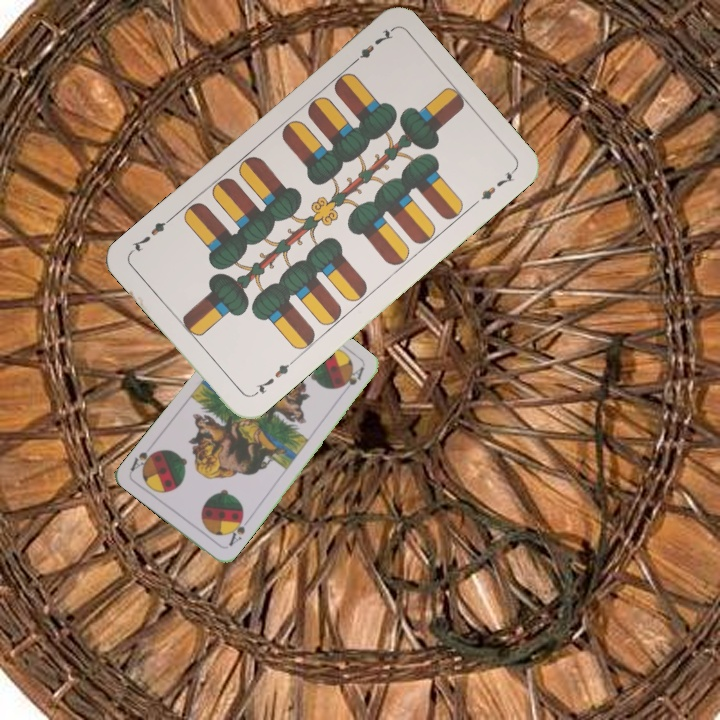E7: (347, 24, 396, 68), (249, 356, 297, 399)
SA: (224, 512, 252, 549)
